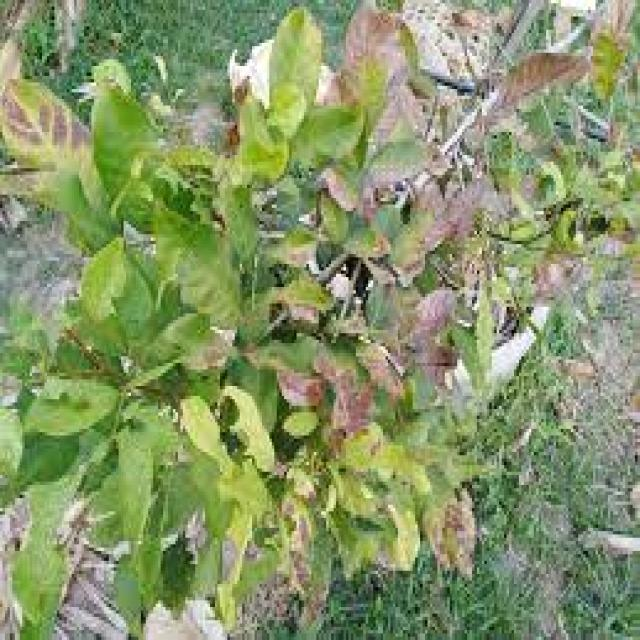Leaf Blight: (326, 0, 587, 257), (273, 278, 490, 442)
